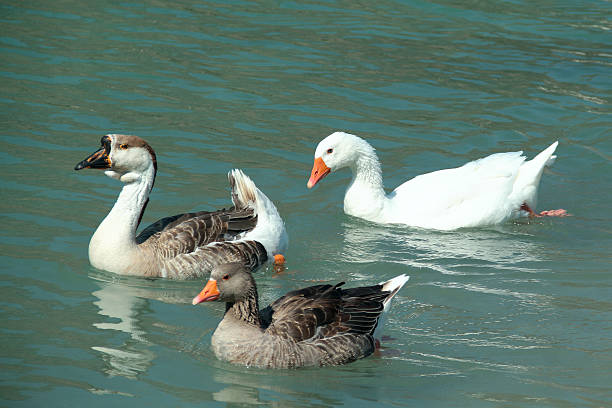goose: (304, 124, 580, 251), (72, 129, 288, 277), (193, 257, 412, 369)
